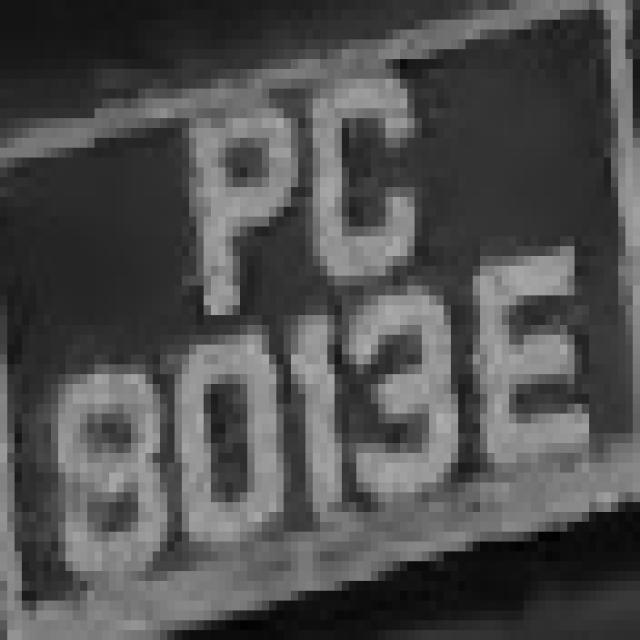0: (160, 335, 298, 561)
1: (284, 286, 364, 571)
3: (334, 266, 451, 522)
9: (36, 344, 189, 600)
C: (291, 49, 429, 315)
E: (458, 246, 589, 502)
P: (153, 89, 305, 315)
